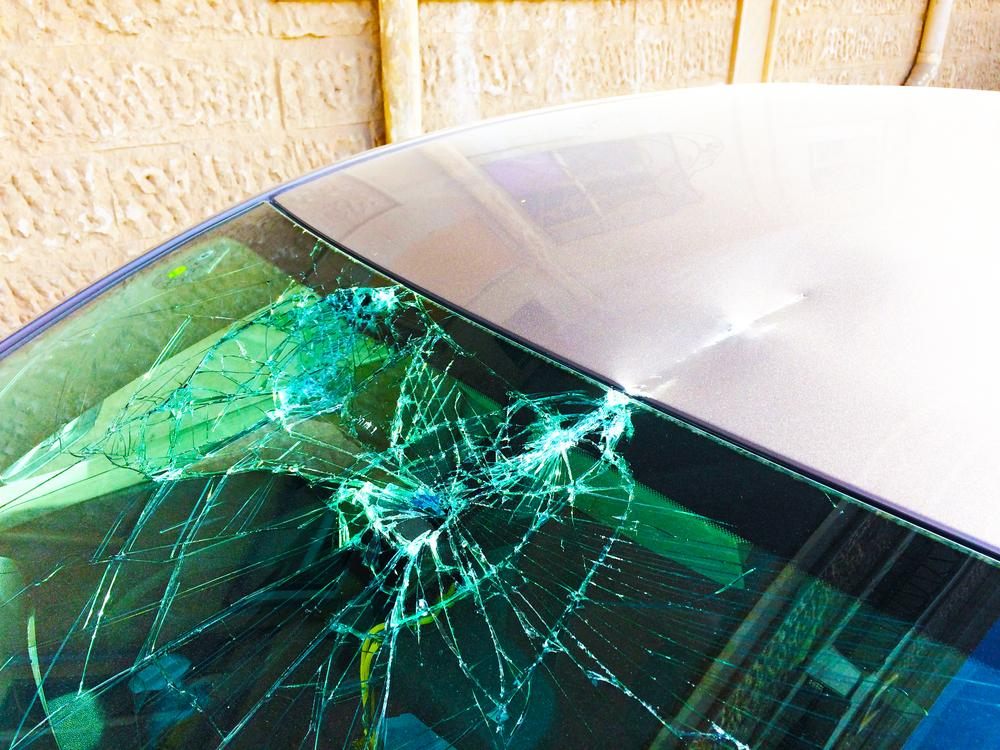dent: (625, 249, 828, 396)
glass shatter: (0, 201, 1000, 750)
